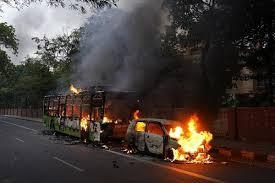fire: (167, 113, 212, 161), (79, 112, 89, 129), (69, 84, 79, 94)
